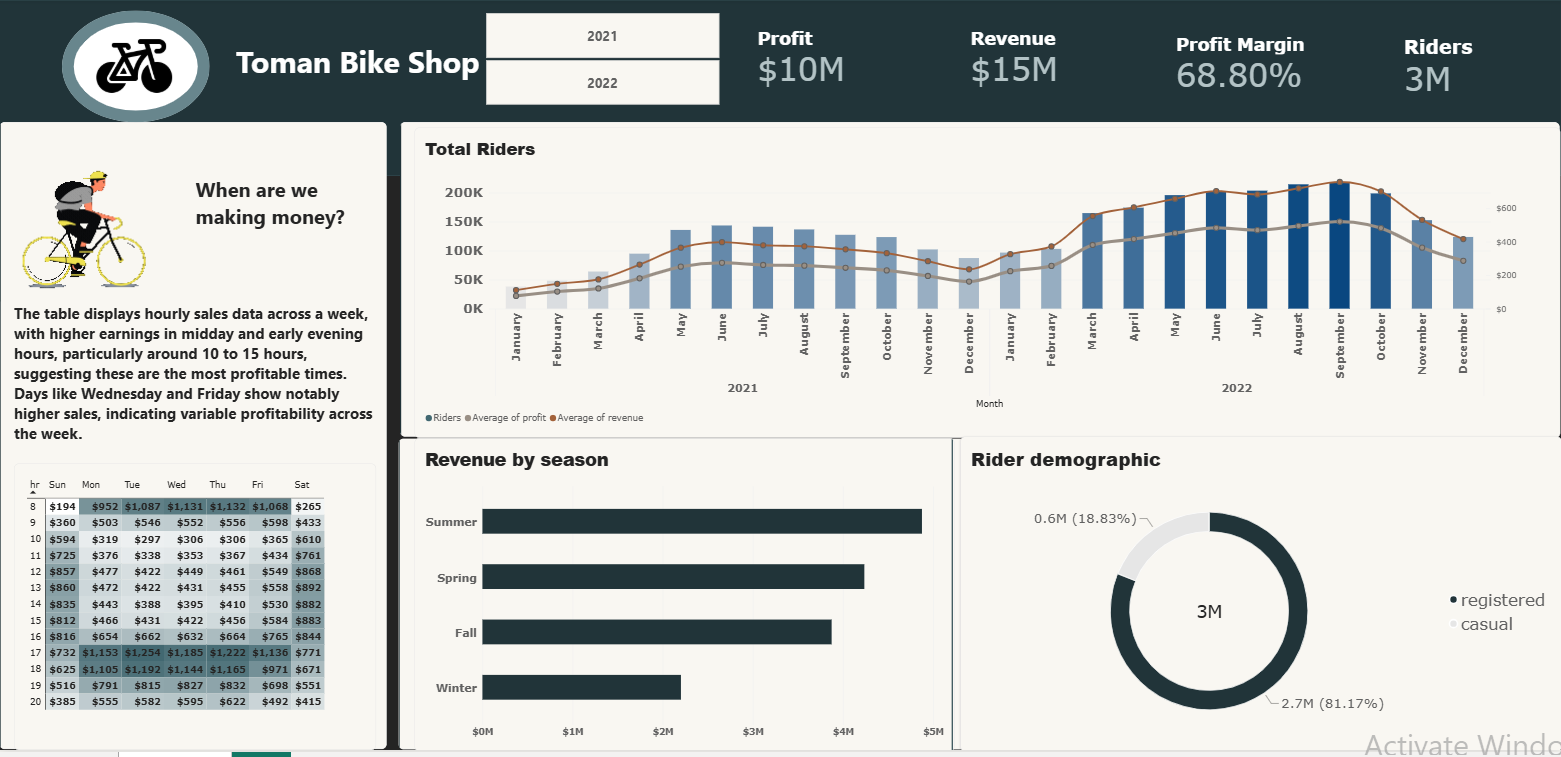

Layout of this report page (visuals, bound fields, positions):
{"tool":"powerbi","page":{"name":"Page 1","canvas":[2500,1200],"ordinal":0},"visuals":[{"type":"shape","box":[0,0,2499.9,281],"z":0},{"type":"cardVisual","fields":{"Data":["Sum(Query1.riders)"]},"box":[0,195.2,621.1,1005.5],"z":1000},{"type":"cardVisual","fields":{"Data":["Sum(Query1.riders)"]},"box":[641.8,195.2,1857.3,505.7],"z":2000},{"type":"cardVisual","fields":{"Data":["Sum(Query1.riders)"]},"box":[638.8,700.9,1860.2,499.8],"z":3000},{"type":"cardVisual","fields":{"Data":["Sum(Query1.riders)"]},"box":[0,0,266.2,485],"z":4000},{"type":"pivotTable","fields":{"Columns":["Query1.Day Name"],"Rows":["Query1.hr"],"Values":["Avg(Query1.revenue)"]},"box":[23.7,742.3,579.7,458.4],"z":5000},{"type":"textbox","box":[23.7,485,576.7,257.3],"z":6000},{"type":"textbox","box":[313.5,281,307.6,144.9],"z":7000},{"type":"lineClusteredColumnComboChart","title":"Total Riders","fields":{"Category":["Query1.dteday.Variation.Date Hierarchy.Year","Query1.dteday.Variation.Date Hierarchy.Month","Query1.dteday.Variation.Date Hierarchy.Day"],"Y":["Sum(Query1.riders)"],"Y2":["Avg(Query1.profit)","Avg(Query1.revenue)"]},"box":[665.4,204.1,1833.6,496.8],"z":8000},{"type":"clusteredBarChart","title":"Revenue by season","fields":{"Category":["Query1.Season Name"],"Y":["Sum(Query1.revenue)"]},"box":[665.4,699.9,864.2,501],"z":9000},{"type":"donutChart","title":"Rider demographic","fields":{"Category":["Query1.rider_type"],"Y":["Sum(Query1.riders)"]},"box":[1537.6,697.2,962.3,503.7],"z":10000},{"type":"shape","box":[1511.1,702.5,26.5,498.4],"z":11000},{"type":"cardVisual","fields":{"Data":["Sum(Query1.riders)"]},"box":[2232.9,17.7,233.6,180.4],"z":12000},{"type":"cardVisual","fields":{"Data":["Query1.profit margin"]},"box":[1866.1,14.8,337.1,177.4],"z":13000},{"type":"shape","box":[100.2,16.7,236.2,178.9],"z":14000},{"type":"image","box":[97.8,45.3,236.2,121.7],"z":15000},{"type":"textbox","box":[379.4,64.4,403.2,76.3],"z":16000},{"type":"slicer","fields":{"Values":["Query1.years"]},"box":[758.7,19.1,412.8,150.3],"z":17000},{"type":"cardVisual","fields":{"Data":["Sum(Query1.revenue)"]},"box":[1537.9,5.9,328.3,177.4],"z":18000},{"type":"cardVisual","fields":{"Data":["Sum(Query1.profit)"]},"box":[1197.8,5.9,314.9,176.6],"z":19000}]}

Visuals, with their boxes in screenshot pixels (x1, y1, x2, y2), scaled from the page's 2500x1200 canvas onto the 1561x757 screenshot:
shape: detection(0, 0, 1560, 177)
cardVisual - Sum(Query1.riders): detection(0, 123, 388, 756)
cardVisual - Sum(Query1.riders): detection(401, 123, 1560, 442)
cardVisual - Sum(Query1.riders): detection(399, 442, 1560, 756)
cardVisual - Sum(Query1.riders): detection(0, 0, 166, 306)
pivotTable - Query1.Day Name x Query1.hr: detection(15, 468, 377, 756)
textbox: detection(15, 306, 375, 468)
textbox: detection(196, 177, 388, 269)
"Total Riders" lineClusteredColumnComboChart: detection(415, 129, 1560, 442)
"Revenue by season" clusteredBarChart: detection(415, 442, 955, 756)
"Rider demographic" donutChart: detection(960, 440, 1560, 756)
shape: detection(944, 443, 960, 756)
cardVisual - Sum(Query1.riders): detection(1394, 11, 1540, 125)
cardVisual - Query1.profit margin: detection(1165, 9, 1376, 121)
shape: detection(63, 11, 210, 123)
image: detection(61, 29, 209, 105)
textbox: detection(237, 41, 489, 89)
slicer - Query1.years: detection(474, 12, 731, 107)
cardVisual - Sum(Query1.revenue): detection(960, 4, 1165, 116)
cardVisual - Sum(Query1.profit): detection(748, 4, 945, 115)
